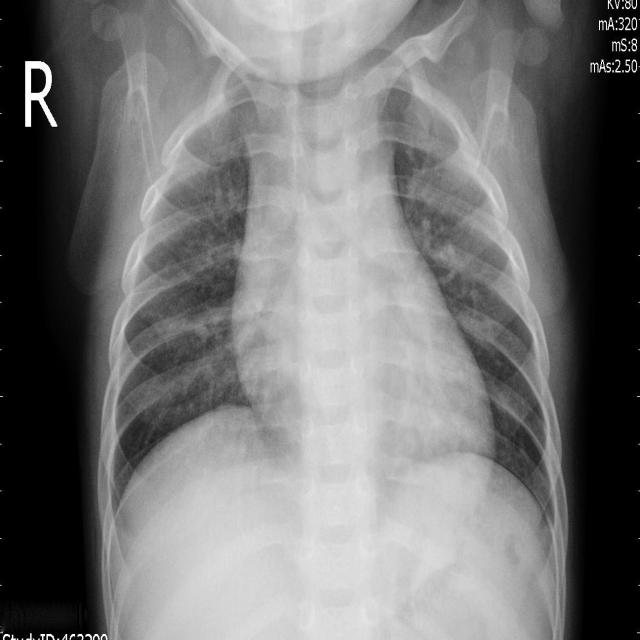low-pneumonia: (406, 112, 499, 310), (164, 99, 243, 241)
